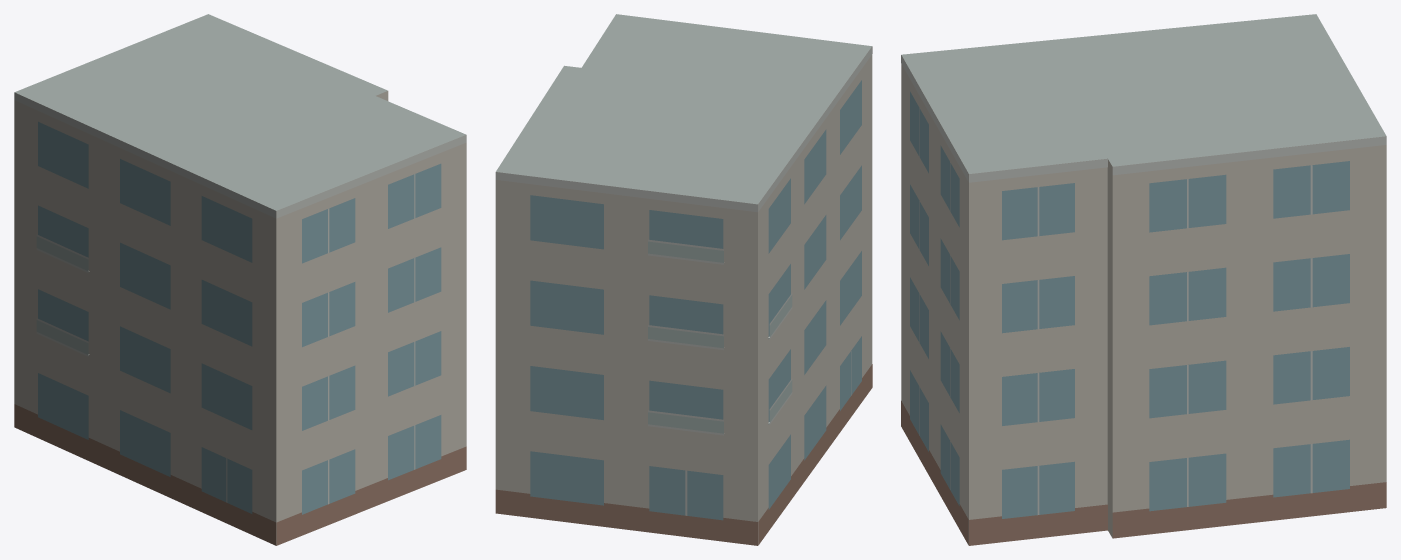
File: survey-upis-32922821.glb
3 views of the same model, side by side, from view 1: azimuth 30°, elevation 25°; view 2: azimuth 150°, elevation 25°; view 3: azimuth 270°, elevation 25° (orthographic). The views are drawn at different scales.
Parts seen in each view (by area): view 1: survey-upis-32922821.tmp; view 2: survey-upis-32922821.tmp; view 3: survey-upis-32922821.tmp.
Boxes of the visible parts, left/top/right/bottom form: survey-upis-32922821.tmp: left=14, top=14, right=466, bottom=545; survey-upis-32922821.tmp: left=495, top=14, right=872, bottom=545; survey-upis-32922821.tmp: left=901, top=14, right=1386, bottom=545.
Bounding box in the file's own units: 9.71 × 10.5 × 12.44.
